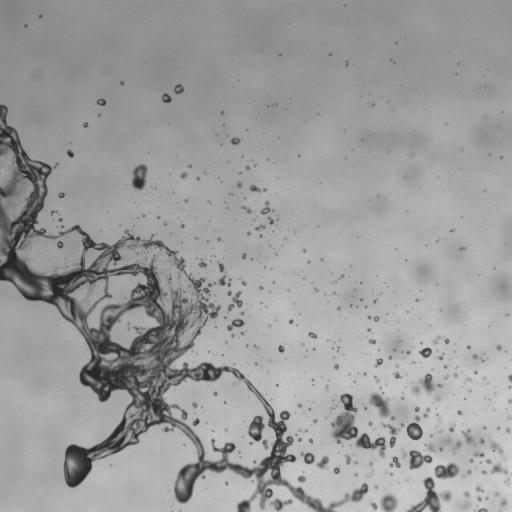droplet: (411, 372, 443, 395), (368, 493, 398, 511), (433, 462, 460, 479), (408, 450, 432, 469), (131, 164, 148, 190), (270, 497, 292, 511), (316, 455, 329, 469), (300, 452, 314, 464), (418, 347, 432, 358), (389, 456, 400, 468), (19, 138, 30, 149), (27, 149, 38, 160), (211, 283, 222, 294), (229, 308, 240, 319), (233, 335, 244, 346), (180, 351, 191, 362), (80, 352, 91, 363), (171, 358, 182, 369), (465, 359, 476, 370), (110, 388, 121, 399), (445, 411, 456, 422), (172, 427, 183, 438), (396, 429, 407, 440), (494, 432, 505, 443), (432, 435, 443, 446), (411, 439, 422, 450), (384, 446, 395, 457), (489, 452, 500, 463), (432, 454, 443, 465), (399, 455, 410, 466), (473, 458, 484, 469), (456, 460, 467, 471), (279, 461, 290, 472), (357, 462, 368, 473), (422, 463, 433, 474), (471, 472, 482, 483), (477, 475, 488, 486), (432, 481, 443, 492), (271, 483, 282, 494), (500, 486, 511, 497), (278, 487, 289, 498), (416, 487, 427, 498), (450, 490, 461, 501), (437, 499, 448, 510), (162, 93, 171, 103), (392, 371, 403, 379), (174, 84, 183, 93), (198, 258, 207, 267), (374, 358, 383, 367), (475, 484, 484, 493), (5, 149, 14, 158), (143, 175, 152, 184), (35, 211, 44, 220), (258, 214, 267, 223), (140, 231, 149, 240), (473, 360, 482, 369), (367, 365, 376, 374), (315, 378, 324, 387), (404, 389, 413, 398), (386, 401, 395, 410), (336, 404, 345, 413), (370, 405, 379, 414), (302, 418, 311, 427), (382, 430, 391, 439), (452, 430, 461, 439), (82, 440, 91, 449), (443, 442, 452, 451), (303, 443, 312, 452), (481, 444, 490, 453), (285, 445, 294, 454), (484, 449, 493, 458), (326, 459, 335, 468), (223, 467, 232, 476), (471, 468, 480, 477), (495, 471, 504, 480), (56, 473, 65, 482), (193, 477, 202, 486), (385, 486, 394, 495), (346, 499, 355, 508), (230, 137, 240, 145), (448, 422, 456, 432), (254, 224, 265, 231), (264, 504, 275, 511), (472, 451, 484, 457), (96, 98, 106, 105), (505, 460, 511, 471), (247, 505, 258, 511), (392, 505, 403, 511), (66, 149, 74, 157), (333, 465, 340, 474), (297, 475, 306, 482), (500, 498, 507, 507), (180, 171, 187, 179), (373, 375, 380, 383), (464, 376, 472, 383), (192, 418, 199, 426), (0, 177, 5, 188), (308, 332, 317, 338), (168, 90, 175, 97), (5, 118, 12, 125), (131, 160, 138, 167), (127, 173, 134, 180), (236, 174, 243, 181), (45, 176, 52, 183), (242, 183, 249, 190), (132, 187, 139, 194), (33, 222, 40, 229), (92, 236, 99, 243), (107, 238, 114, 245), (302, 252, 309, 259), (215, 271, 222, 278), (192, 273, 199, 280), (331, 283, 338, 290), (221, 284, 228, 291), (225, 296, 232, 303), (36, 299, 43, 306), (48, 303, 55, 310), (232, 305, 239, 312), (216, 309, 223, 316), (468, 347, 475, 354), (205, 356, 212, 363), (212, 360, 219, 367), (225, 360, 232, 367), (447, 360, 454, 367), (187, 361, 194, 368), (74, 365, 81, 372), (446, 367, 453, 374), (418, 371, 425, 378), (457, 373, 464, 380), (430, 377, 437, 384), (84, 385, 91, 392), (432, 386, 439, 393), (91, 392, 98, 399), (125, 394, 132, 401), (437, 400, 444, 407), (301, 402, 308, 409), (427, 410, 434, 417), (329, 414, 336, 421), (273, 415, 280, 422), (383, 416, 390, 423), (407, 416, 414, 423), (113, 418, 120, 425), (351, 419, 358, 426), (391, 420, 398, 427), (159, 421, 166, 428), (441, 424, 448, 431), (106, 427, 113, 434), (280, 433, 287, 440), (301, 433, 308, 440), (458, 434, 465, 441), (368, 435, 375, 442), (472, 435, 479, 442), (350, 436, 357, 443), (185, 438, 192, 445), (460, 440, 467, 447), (498, 441, 505, 448), (60, 443, 67, 450), (358, 446, 365, 453), (295, 454, 302, 461), (314, 455, 321, 462), (191, 456, 198, 463), (441, 459, 448, 466), (429, 460, 436, 467), (177, 461, 184, 468), (466, 462, 473, 469), (485, 463, 492, 470), (203, 468, 210, 475), (85, 472, 92, 479), (292, 480, 299, 487), (298, 481, 305, 488), (354, 482, 361, 489), (269, 483, 276, 490), (346, 487, 353, 494), (303, 488, 310, 495), (470, 490, 477, 497), (168, 491, 175, 498), (362, 492, 369, 499), (242, 493, 249, 500), (336, 493, 343, 500), (188, 495, 195, 502), (236, 495, 243, 502), (460, 496, 467, 503), (494, 496, 501, 503), (264, 497, 271, 504), (292, 497, 299, 504), (374, 498, 381, 505), (478, 500, 485, 507), (176, 501, 183, 508), (321, 501, 328, 508), (368, 338, 376, 344), (278, 345, 284, 353), (445, 436, 451, 444), (506, 389, 511, 398), (506, 498, 511, 507), (280, 506, 289, 511), (305, 506, 314, 511), (333, 506, 342, 511), (375, 506, 384, 511), (422, 506, 431, 511), (58, 192, 65, 198), (57, 241, 63, 248), (434, 396, 441, 402), (476, 495, 482, 502), (504, 505, 511, 511), (296, 402, 302, 408), (463, 491, 469, 497), (0, 278, 4, 287), (241, 252, 246, 259), (312, 287, 319, 292), (496, 344, 501, 351), (404, 476, 411, 481), (82, 122, 88, 127), (408, 152, 414, 157), (237, 181, 242, 187), (338, 274, 344, 279), (240, 330, 246, 335), (253, 344, 259, 349), (443, 364, 449, 369), (192, 402, 197, 408), (457, 410, 463, 415), (505, 427, 510, 433), (296, 437, 302, 442), (481, 470, 487, 475), (507, 466, 511, 473), (231, 507, 238, 511), (367, 507, 374, 511), (465, 507, 472, 511), (245, 165, 250, 170), (334, 364, 339, 369), (453, 372, 458, 377), (444, 374, 449, 379), (312, 419, 317, 424), (368, 461, 373, 466), (484, 495, 489, 500), (177, 92, 182, 97), (165, 101, 170, 106), (6, 104, 11, 109), (229, 133, 234, 138), (225, 137, 230, 142), (230, 143, 235, 148), (234, 143, 239, 148), (23, 147, 28, 152), (71, 148, 76, 153), (26, 151, 31, 156), (64, 154, 69, 159), (42, 158, 47, 163), (48, 161, 53, 166), (248, 161, 253, 166), (129, 166, 134, 171), (240, 166, 245, 171), (249, 166, 254, 171), (184, 167, 189, 172), (50, 168, 55, 173), (176, 170, 181, 175), (47, 173, 52, 178), (184, 175, 189, 180), (179, 178, 184, 183), (254, 182, 259, 187), (232, 183, 237, 188), (46, 187, 51, 192), (252, 190, 257, 195), (43, 196, 48, 201), (245, 203, 250, 208), (260, 203, 265, 208), (266, 211, 271, 216), (249, 212, 254, 217), (270, 214, 275, 219), (158, 217, 163, 222), (70, 221, 75, 226), (269, 223, 274, 228), (62, 226, 67, 231), (80, 226, 85, 231), (258, 228, 263, 233), (85, 229, 90, 234), (53, 230, 58, 235), (254, 230, 259, 235), (151, 236, 156, 241), (162, 240, 167, 245), (169, 245, 174, 250), (175, 253, 180, 258), (245, 253, 250, 258), (203, 258, 208, 263), (222, 262, 227, 267), (214, 265, 219, 270), (200, 266, 205, 271), (200, 282, 205, 287), (308, 284, 313, 289), (230, 291, 235, 296), (19, 295, 24, 300), (237, 295, 242, 300), (208, 297, 213, 302), (360, 300, 365, 305), (213, 301, 218, 306), (239, 305, 244, 310), (238, 314, 243, 319), (269, 319, 274, 324), (226, 320, 231, 325), (67, 321, 72, 326), (231, 325, 236, 330), (239, 325, 244, 330), (311, 328, 316, 333), (226, 330, 231, 335), (370, 334, 375, 339), (431, 334, 436, 339), (80, 337, 85, 342), (363, 338, 368, 343), (439, 338, 444, 343), (327, 341, 332, 346), (248, 344, 253, 349), (282, 344, 287, 349), (419, 344, 424, 349), (491, 345, 496, 350), (500, 345, 505, 350), (186, 347, 191, 352), (307, 347, 312, 352), (395, 347, 400, 352), (494, 349, 499, 354), (498, 349, 503, 354), (430, 350, 435, 355), (390, 351, 395, 356), (476, 351, 481, 356), (417, 353, 422, 358), (475, 357, 480, 362), (332, 359, 337, 364), (440, 359, 445, 364), (233, 363, 238, 368), (392, 367, 397, 372), (443, 368, 448, 373), (455, 368, 460, 373), (350, 370, 355, 375), (429, 370, 434, 375), (505, 370, 510, 375), (242, 371, 247, 376), (470, 373, 475, 378), (74, 374, 79, 379), (448, 374, 453, 379), (465, 380, 470, 385), (77, 381, 82, 386), (327, 381, 332, 386), (257, 387, 262, 392), (341, 389, 346, 394), (347, 389, 352, 394), (376, 389, 381, 394), (335, 396, 340, 401), (351, 401, 356, 406), (296, 407, 301, 412), (287, 408, 292, 413), (417, 410, 422, 415), (288, 414, 293, 419), (283, 419, 288, 424), (416, 420, 421, 425), (403, 421, 408, 426), (166, 422, 171, 427), (371, 422, 376, 427), (437, 424, 442, 429), (148, 425, 153, 430), (300, 425, 305, 430), (173, 426, 178, 431), (401, 426, 406, 431), (453, 426, 458, 431), (499, 426, 504, 431), (166, 430, 171, 435), (432, 431, 437, 436), (448, 431, 453, 436), (297, 432, 302, 437), (356, 432, 361, 437), (421, 432, 426, 437), (137, 433, 142, 438), (404, 434, 409, 439), (292, 436, 297, 441), (340, 437, 345, 442), (417, 437, 422, 442), (394, 439, 399, 444), (450, 440, 455, 445), (126, 444, 131, 449), (433, 444, 438, 449), (366, 447, 371, 452), (302, 448, 307, 453), (455, 448, 460, 453), (502, 448, 507, 453), (310, 449, 315, 454), (116, 450, 121, 455), (420, 450, 425, 455), (428, 451, 433, 456), (405, 454, 410, 459), (476, 455, 481, 460), (350, 456, 355, 461), (480, 456, 485, 461), (341, 457, 346, 462), (387, 457, 392, 462), (90, 460, 95, 465), (348, 461, 353, 466), (422, 461, 427, 466), (58, 462, 63, 467), (338, 466, 343, 471), (366, 466, 371, 471), (411, 467, 416, 472), (297, 471, 302, 476), (302, 472, 307, 477), (466, 473, 471, 478), (63, 483, 68, 488), (367, 485, 372, 490), (479, 492, 484, 497), (256, 493, 261, 498), (488, 493, 493, 498), (269, 495, 274, 500), (473, 498, 478, 503), (412, 500, 417, 505), (180, 222, 184, 228), (449, 228, 455, 232), (227, 290, 231, 296), (239, 311, 245, 315), (308, 438, 312, 444), (480, 438, 484, 444), (374, 484, 378, 490), (325, 384, 328, 391), (370, 102, 375, 106), (163, 221, 167, 226), (246, 231, 251, 235), (241, 281, 246, 285), (288, 319, 293, 323), (231, 333, 235, 338), (406, 350, 411, 354), (388, 355, 393, 359), (395, 363, 399, 368), (213, 391, 217, 396), (368, 421, 372, 426), (248, 441, 253, 445), (252, 459, 257, 463), (494, 492, 499, 496), (345, 60, 348, 66), (38, 14, 42, 18), (120, 81, 124, 85), (499, 155, 503, 159), (207, 200, 211, 204), (58, 217, 62, 221), (217, 237, 221, 241), (302, 248, 306, 252), (415, 298, 419, 302), (364, 304, 368, 308), (466, 345, 470, 349), (435, 348, 439, 352), (482, 376, 486, 380), (363, 406, 367, 410), (507, 415, 511, 419), (469, 458, 473, 462), (354, 472, 358, 476), (225, 481, 229, 485), (220, 110, 223, 115), (258, 286, 263, 289), (508, 398, 511, 403), (508, 310, 511, 315), (508, 313, 511, 318), (508, 369, 511, 374), (508, 380, 511, 385), (508, 484, 511, 489), (459, 508, 464, 511), (328, 52, 332, 55), (187, 164, 191, 167), (253, 164, 257, 167), (196, 176, 199, 180), (184, 199, 188, 202), (157, 215, 160, 219), (276, 217, 279, 221), (286, 289, 290, 292), (337, 306, 340, 310), (505, 313, 509, 316), (267, 324, 271, 327), (367, 328, 371, 331), (301, 342, 304, 346), (312, 347, 315, 351), (392, 348, 396, 351), (474, 370, 477, 374), (401, 395, 404, 399), (332, 399, 335, 403), (324, 416, 328, 419), (482, 426, 486, 429), (496, 426, 500, 429), (224, 428, 228, 431), (438, 430, 442, 433), (429, 434, 433, 437), (237, 450, 240, 454), (228, 193, 233, 195), (0, 99, 2, 104), (24, 24, 27, 27), (203, 171, 206, 174), (142, 214, 145, 217), (60, 225, 63, 228), (259, 234, 262, 237), (275, 252, 278, 255), (250, 257, 253, 260), (320, 258, 323, 261), (307, 260, 310, 263), (270, 267, 273, 270), (272, 280, 275, 283), (332, 291, 335, 294), (379, 292, 382, 295), (360, 298, 363, 301), (265, 305, 268, 308), (224, 316, 227, 319), (214, 325, 217, 328), (245, 344, 248, 347), (377, 348, 380, 351), (400, 350, 403, 353), (254, 362, 257, 365), (455, 366, 458, 369), (363, 372, 366, 375), (311, 378, 314, 381), (353, 380, 356, 383), (508, 385, 511, 388), (468, 389, 471, 392), (223, 401, 226, 404), (308, 407, 311, 410), (294, 433, 297, 436), (38, 11, 41, 14), (41, 14, 44, 17), (35, 15, 38, 18), (39, 17, 42, 20), (23, 20, 26, 23), (20, 23, 23, 26), (26, 24, 29, 27), (23, 26, 26, 29), (326, 50, 329, 53), (331, 52, 334, 55), (277, 55, 280, 58), (328, 55, 331, 58), (391, 58, 394, 61), (342, 61, 345, 64), (347, 61, 350, 64), (392, 63, 395, 66), (120, 77, 123, 80), (123, 79, 126, 82), (174, 82, 177, 85), (122, 83, 125, 86), (119, 84, 122, 87), (182, 84, 185, 87), (99, 95, 102, 98), (103, 97, 106, 100), (159, 98, 162, 101), (104, 102, 107, 105), (374, 103, 377, 106), (99, 104, 102, 107), (268, 104, 271, 107), (272, 104, 275, 107), (369, 105, 372, 108), (217, 111, 220, 114), (223, 111, 226, 114), (99, 115, 102, 118), (81, 120, 84, 123), (87, 121, 90, 124), (80, 125, 83, 128), (85, 126, 88, 129), (15, 128, 18, 131), (299, 152, 302, 155), (294, 153, 297, 156), (501, 153, 504, 156), (237, 154, 240, 157), (243, 154, 246, 157), (497, 157, 500, 160), (186, 161, 189, 164), (191, 164, 194, 167), (55, 165, 58, 168), (255, 165, 258, 168), (239, 173, 242, 176), (193, 175, 196, 178), (199, 176, 202, 179), (219, 176, 222, 179), (195, 179, 198, 182), (264, 185, 267, 188), (236, 186, 239, 189), (152, 188, 155, 191), (60, 189, 63, 192), (229, 190, 232, 193), (63, 191, 66, 194), (228, 194, 231, 197), (63, 195, 66, 198), (240, 195, 243, 198), (182, 196, 185, 199), (59, 197, 62, 200), (187, 199, 190, 202), (210, 199, 213, 202), (206, 202, 209, 205), (224, 203, 227, 206), (267, 204, 270, 207), (52, 207, 55, 210), (242, 208, 245, 211), (57, 209, 60, 212), (156, 212, 159, 215), (144, 213, 147, 216), (139, 215, 142, 218), (153, 215, 156, 218), (277, 215, 280, 218), (133, 216, 136, 219), (181, 220, 184, 223), (273, 220, 276, 223), (58, 221, 61, 224), (166, 222, 169, 225), (177, 223, 180, 226), (161, 224, 164, 227), (183, 224, 186, 227), (449, 226, 452, 229), (123, 227, 126, 230), (180, 227, 183, 230), (60, 228, 63, 231), (129, 231, 132, 234), (450, 231, 453, 234), (195, 233, 198, 236), (245, 234, 248, 237), (261, 234, 264, 237), (139, 236, 142, 239), (205, 236, 208, 239), (435, 236, 438, 239), (214, 237, 217, 240), (220, 237, 223, 240), (438, 238, 441, 241), (194, 239, 197, 242), (218, 240, 221, 243), (434, 241, 437, 244), (206, 242, 209, 245), (270, 244, 273, 247), (460, 244, 463, 247), (300, 246, 303, 249), (461, 249, 464, 252), (300, 251, 303, 254), (304, 251, 307, 254), (211, 252, 214, 255), (319, 254, 322, 257), (274, 255, 277, 258), (404, 255, 407, 258), (239, 256, 242, 259), (252, 256, 255, 259), (309, 258, 312, 261), (322, 258, 325, 261), (401, 258, 404, 261), (304, 259, 307, 262), (319, 260, 322, 263), (405, 260, 408, 263), (263, 262, 266, 265), (307, 263, 310, 266), (260, 265, 263, 268), (183, 266, 186, 269), (266, 266, 269, 269), (340, 270, 343, 273), (186, 271, 189, 274), (301, 273, 304, 276), (337, 273, 340, 276), (343, 274, 346, 277), (241, 277, 244, 280), (339, 277, 342, 280), (269, 278, 272, 281), (238, 279, 241, 282), (274, 279, 277, 282), (361, 279, 364, 282), (209, 280, 212, 283), (216, 280, 219, 283), (229, 280, 232, 283), (356, 281, 359, 284), (385, 282, 388, 285), (224, 283, 227, 286), (245, 283, 248, 286), (260, 283, 263, 286), (271, 283, 274, 286), (315, 285, 318, 288), (257, 288, 260, 291), (331, 288, 334, 291), (312, 289, 315, 292), (335, 291, 338, 294), (224, 292, 227, 295), (330, 293, 333, 296), (415, 295, 418, 298), (372, 296, 375, 299), (412, 297, 415, 300), (260, 298, 263, 301), (356, 298, 359, 301), (370, 299, 373, 302), (375, 299, 378, 302), (349, 300, 352, 303), (415, 301, 418, 304), (259, 303, 262, 306), (346, 303, 349, 306), (334, 305, 337, 308), (351, 305, 354, 308), (340, 306, 343, 309), (354, 307, 357, 310), (403, 308, 406, 311), (408, 309, 411, 312), (337, 310, 340, 313), (504, 310, 507, 313), (404, 312, 407, 315), (386, 314, 389, 317), (378, 315, 381, 318), (506, 315, 509, 318), (364, 316, 367, 319), (377, 319, 380, 322), (285, 320, 288, 323), (292, 320, 295, 323), (204, 322, 207, 325), (265, 325, 268, 328), (224, 327, 227, 330), (307, 329, 310, 332), (364, 329, 367, 332), (368, 330, 371, 333), (243, 331, 246, 334), (440, 333, 443, 336), (239, 334, 242, 337), (195, 335, 198, 338), (307, 335, 310, 338), (445, 335, 448, 338), (327, 336, 330, 339), (311, 337, 314, 340), (323, 337, 326, 340), (222, 339, 225, 342), (245, 340, 248, 343), (375, 340, 378, 343), (447, 341, 450, 344), (255, 342, 258, 345), (336, 342, 339, 345), (466, 342, 469, 345), (242, 343, 245, 346), (371, 343, 374, 346), (392, 345, 395, 348), (470, 345, 473, 348), (275, 346, 278, 349), (302, 346, 305, 349), (333, 346, 336, 349), (208, 347, 211, 350), (315, 347, 318, 350), (328, 347, 331, 350), (406, 347, 409, 350), (338, 348, 341, 351), (466, 348, 469, 351), (455, 349, 458, 352), (403, 350, 406, 353), (277, 351, 280, 354), (304, 351, 307, 354), (335, 351, 338, 354), (218, 352, 221, 355), (438, 352, 441, 355), (223, 353, 226, 356), (407, 353, 410, 356), (428, 354, 431, 357), (377, 355, 380, 358), (442, 355, 445, 358), (391, 356, 394, 359), (482, 356, 485, 359), (252, 359, 255, 362), (484, 359, 487, 362), (373, 360, 376, 363), (256, 363, 259, 366), (379, 363, 382, 366), (411, 363, 414, 366), (252, 364, 255, 367), (331, 364, 334, 367), (338, 364, 341, 367), (446, 364, 449, 367), (337, 367, 340, 370), (473, 367, 476, 370), (476, 369, 479, 372), (360, 370, 363, 373), (366, 371, 369, 374), (344, 372, 347, 375), (398, 372, 401, 375), (476, 372, 479, 375), (442, 373, 445, 376), (362, 374, 365, 377), (391, 374, 394, 377), (346, 375, 349, 378), (376, 375, 379, 378), (351, 377, 354, 380), (397, 377, 400, 380), (373, 378, 376, 381), (483, 379, 486, 382), (250, 380, 253, 383), (275, 380, 278, 383), (312, 380, 315, 383), (325, 380, 328, 383), (272, 382, 275, 385), (353, 382, 356, 385), (278, 383, 281, 386), (322, 383, 325, 386), (313, 384, 316, 387), (504, 385, 507, 388), (274, 386, 277, 389), (471, 389, 474, 392), (468, 391, 471, 394), (262, 394, 265, 397), (463, 394, 466, 397), (486, 395, 489, 398), (397, 396, 400, 399), (403, 396, 406, 399), (460, 396, 463, 399), (485, 398, 488, 401), (266, 399, 269, 402), (400, 399, 403, 402), (462, 399, 465, 402), (433, 400, 436, 403), (414, 403, 417, 406), (307, 404, 310, 407), (310, 406, 313, 409), (411, 407, 414, 410), (457, 407, 460, 410), (364, 409, 367, 412), (435, 409, 438, 412), (426, 411, 429, 414), (454, 411, 457, 414), (438, 412, 441, 415), (457, 414, 460, 417), (434, 415, 437, 418), (311, 416, 314, 419), (315, 416, 318, 419), (316, 420, 319, 423), (311, 422, 314, 425), (481, 423, 484, 426), (484, 423, 487, 426), (467, 425, 470, 428), (493, 426, 496, 429), (307, 428, 310, 431), (481, 428, 484, 431), (308, 435, 311, 438), (482, 437, 485, 440), (312, 439, 315, 442), (307, 441, 310, 444), (337, 443, 340, 446), (440, 444, 443, 447), (347, 452, 350, 455), (466, 458, 469, 461), (371, 459, 374, 462), (397, 459, 400, 462), (366, 461, 369, 464), (386, 464, 389, 467), (370, 465, 373, 468), (331, 471, 334, 474), (386, 472, 389, 475), (335, 473, 338, 476), (481, 473, 484, 476), (227, 480, 230, 483), (222, 482, 225, 485), (377, 484, 380, 487), (479, 485, 482, 488), (481, 497, 484, 500), (475, 507, 478, 510), (238, 172, 242, 174), (259, 301, 263, 303), (494, 391, 496, 395), (395, 41, 397, 44), (278, 53, 281, 55), (457, 62, 459, 65), (97, 114, 100, 116), (222, 123, 224, 126), (241, 155, 243, 158), (298, 154, 300, 157), (244, 196, 246, 199), (283, 237, 286, 239), (206, 240, 209, 242), (195, 257, 198, 259), (405, 258, 407, 261), (238, 277, 241, 279), (302, 277, 305, 279), (419, 289, 422, 291), (350, 304, 352, 307), (406, 310, 408, 313), (326, 339, 329, 341), (225, 340, 227, 343), (420, 341, 422, 344), (331, 347, 334, 349), (504, 350, 507, 352), (333, 356, 335, 359), (266, 371, 269, 373), (348, 373, 351, 375), (486, 382, 489, 384), (275, 384, 278, 386), (379, 386, 381, 389), (401, 391, 404, 393), (505, 408, 507, 411), (211, 429, 214, 431), (479, 461, 482, 463), (302, 470, 305, 472), (397, 481, 399, 484), (509, 387, 511, 390), (509, 402, 511, 405), (509, 428, 511, 431), (509, 477, 511, 480), (393, 61, 395, 63), (275, 103, 277, 105), (501, 111, 503, 113), (445, 123, 447, 125), (226, 134, 228, 136), (488, 153, 490, 155), (267, 158, 269, 160), (272, 230, 274, 232), (425, 244, 427, 246), (209, 260, 211, 262), (493, 267, 495, 269), (360, 281, 362, 283), (213, 294, 215, 296), (356, 306, 358, 308), (488, 325, 490, 327), (305, 349, 307, 351), (208, 350, 210, 352), (483, 352, 485, 354), (304, 355, 306, 357), (312, 383, 314, 385), (464, 397, 466, 399), (183, 443, 185, 445), (239, 456, 241, 458), (251, 480, 253, 482), (221, 180, 222, 182), (377, 195, 379, 196), (224, 201, 226, 202), (226, 207, 228, 208), (119, 224, 120, 226), (317, 225, 318, 227), (436, 240, 438, 241), (269, 244, 270, 246), (395, 248, 396, 250), (331, 272, 332, 274), (327, 301, 328, 303), (386, 313, 388, 314), (454, 350, 455, 352), (343, 353, 344, 355), (222, 354, 223, 356), (432, 368, 433, 370), (432, 402, 433, 404), (201, 406, 202, 408), (179, 510, 181, 511), (484, 190, 485, 191), (215, 300, 216, 301), (339, 340, 340, 341)
ligament: (485, 457, 511, 486), (247, 415, 269, 449), (369, 392, 395, 420), (406, 405, 423, 440), (489, 440, 507, 461), (227, 291, 242, 312), (461, 428, 475, 445), (227, 318, 245, 331), (431, 335, 449, 345), (423, 443, 443, 452), (249, 184, 267, 193), (452, 439, 462, 454), (472, 354, 488, 362), (473, 504, 489, 511), (240, 205, 252, 214), (267, 216, 277, 226), (435, 413, 442, 427), (422, 406, 430, 418), (365, 469, 374, 479), (461, 469, 471, 478), (367, 315, 379, 322), (383, 469, 393, 476), (461, 502, 471, 509), (401, 448, 406, 458), (51, 210, 60, 215), (126, 322, 131, 331), (507, 374, 511, 382), (298, 429, 307, 432), (331, 280, 337, 284), (484, 397, 490, 401), (458, 247, 465, 250), (409, 361, 416, 364), (373, 298, 377, 303), (336, 346, 340, 351), (385, 379, 388, 385), (193, 237, 198, 239), (349, 443, 351, 447), (210, 255, 216, 256), (263, 266, 266, 268), (498, 510, 502, 511), (510, 358, 511, 361), (356, 372, 359, 373)
